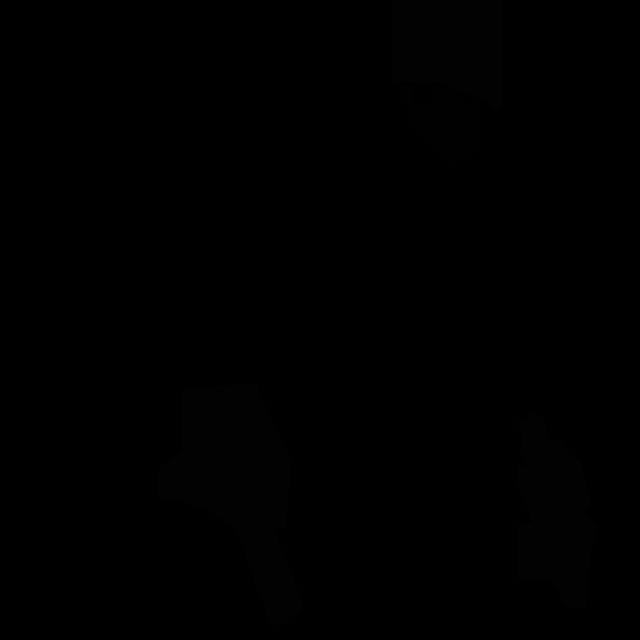cardboard: (157, 383, 302, 627), (516, 410, 598, 609), (391, 0, 502, 111)
rigid_plastic: (400, 85, 483, 166)
